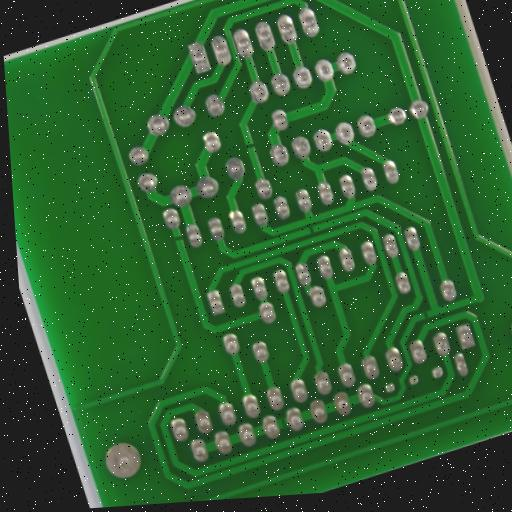open_circuit: (275, 411, 294, 434), (170, 230, 189, 246), (243, 136, 260, 153), (306, 221, 322, 237), (419, 307, 434, 323)
